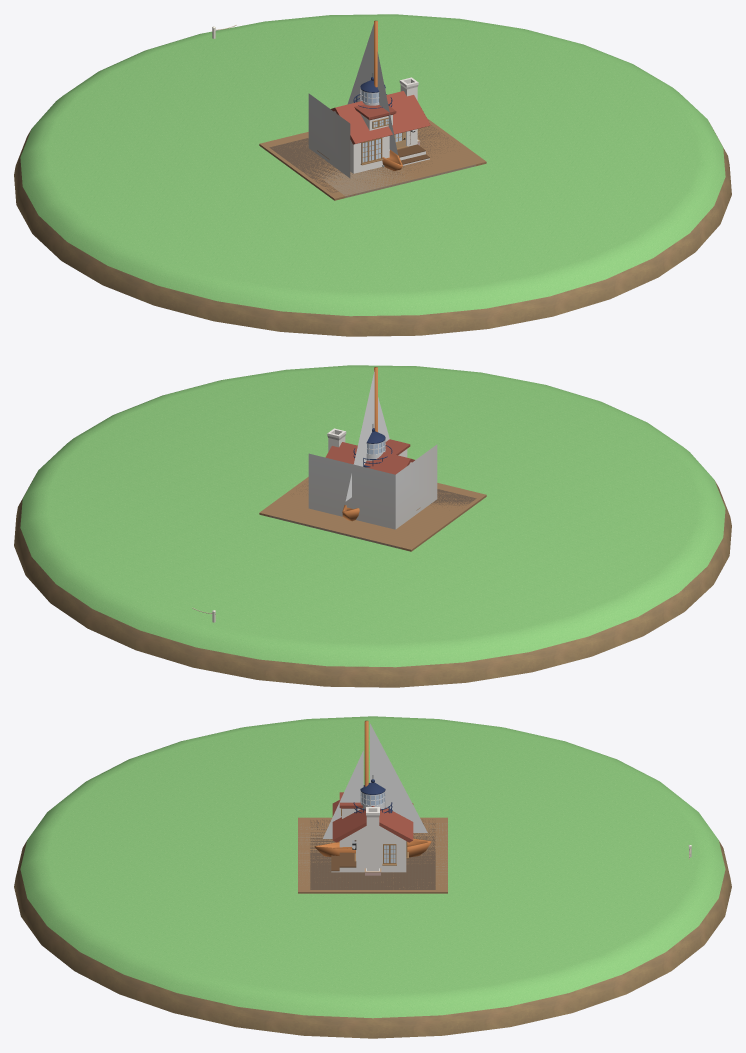
The model's file is models.glb.
3 views of the same model, one above another, from view 1: azimuth 30°, elevation 25°; view 2: azimuth 150°, elevation 25°; view 3: azimuth 270°, elevation 25° (orthographic).
Parts seen in each view (by area): view 1: LAND GRASS_tex_, LAND DIRT_tex_, HOUSE, CAFE FLOOR_tex_, blocker_aabb_, LOUNGE FLOOR_tex_, BOAT, BOUTIQUE FLOOR_tex_; view 2: LAND GRASS_tex_, LAND DIRT_tex_, blocker_aabb_, CAFE FLOOR_tex_, HOUSE, BOAT, LIGHTHOUSE; view 3: LAND GRASS_tex_, LAND DIRT_tex_, HOUSE, BOAT, LOUNGE FLOOR_tex_, CAFE FLOOR_tex_, BOUTIQUE FLOOR_tex_, LIGHTHOUSE.
Part boxes in pixels (left/top/right/bottom): LAND GRASS_tex_: left=20, top=14, right=725, bottom=316; LAND DIRT_tex_: left=14, top=126, right=731, bottom=336; HOUSE: left=331, top=77, right=430, bottom=173; CAFE FLOOR_tex_: left=259, top=118, right=486, bottom=200; blocker_aabb_: left=308, top=93, right=350, bottom=178; LOUNGE FLOOR_tex_: left=269, top=125, right=454, bottom=192; BOAT: left=347, top=20, right=402, bottom=171; BOUTIQUE FLOOR_tex_: left=316, top=164, right=475, bottom=197; LAND GRASS_tex_: left=20, top=365, right=725, bottom=667; LAND DIRT_tex_: left=14, top=477, right=731, bottom=687; blocker_aabb_: left=308, top=444, right=437, bottom=529; CAFE FLOOR_tex_: left=259, top=477, right=486, bottom=551; HOUSE: left=325, top=428, right=414, bottom=474; BOAT: left=342, top=367, right=389, bottom=521; LIGHTHOUSE: left=353, top=424, right=392, bottom=467; LAND GRASS_tex_: left=20, top=716, right=725, bottom=1018; LAND DIRT_tex_: left=14, top=841, right=731, bottom=1038; HOUSE: left=331, top=792, right=413, bottom=872; BOAT: left=314, top=720, right=431, bottom=857; LOUNGE FLOOR_tex_: left=310, top=819, right=435, bottom=889; CAFE FLOOR_tex_: left=298, top=817, right=447, bottom=893; BOUTIQUE FLOOR_tex_: left=298, top=823, right=447, bottom=886; LIGHTHOUSE: left=352, top=775, right=392, bottom=848.
Size of what is drawn, in the model's own units: 86 by 21.89 by 86.
74 materials, 68 textured.
